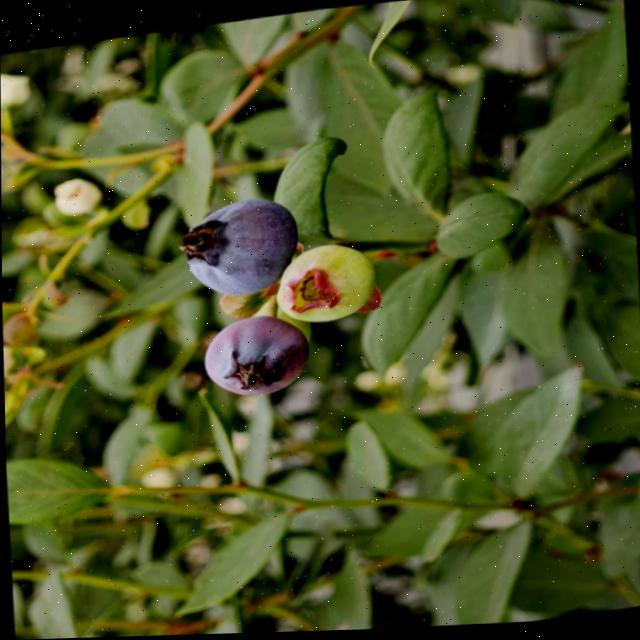RipeBlueBerry: (177, 186, 304, 299)
Semi-RipeBlueBerry: (202, 305, 314, 399)
UnripeBlueBerry: (273, 234, 381, 329)
